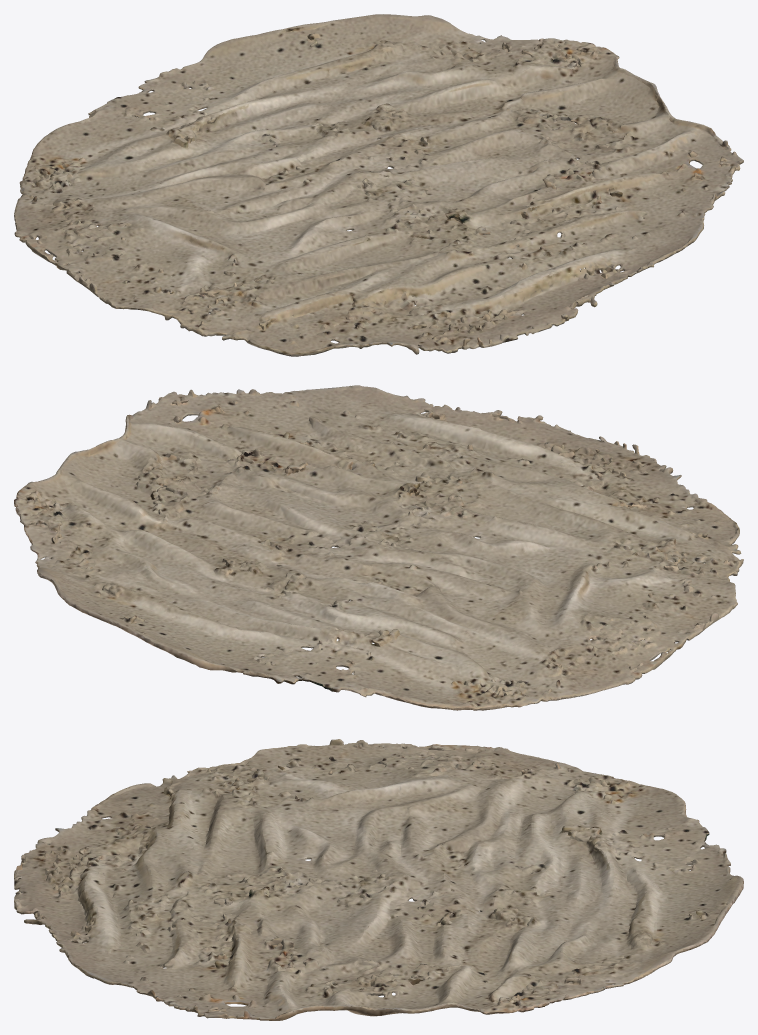
Rendered from sand-ripple-v12.glb.
3 renders of one model, top to bottom at view 1: azimuth 30°, elevation 25°; view 2: azimuth 150°, elevation 25°; view 3: azimuth 270°, elevation 25°, orthographic. The views are drawn at different scales.
Parts seen in each view (by area): view 1: geometry_0; view 2: geometry_0; view 3: geometry_0.
Boxes of the visible parts, left/top/right/bottom form: geometry_0: left=14, top=14, right=743, bottom=356; geometry_0: left=14, top=385, right=743, bottom=710; geometry_0: left=14, top=739, right=743, bottom=1020.
Size of the model in its own units: 0.3 by 0.0238 by 0.3004.
Materials: 1 (1 with a texture image).
